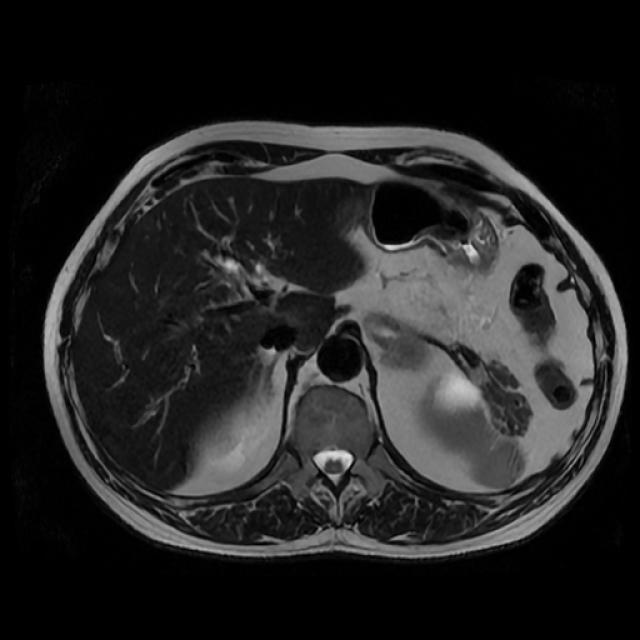sol: (441, 372, 480, 407)
